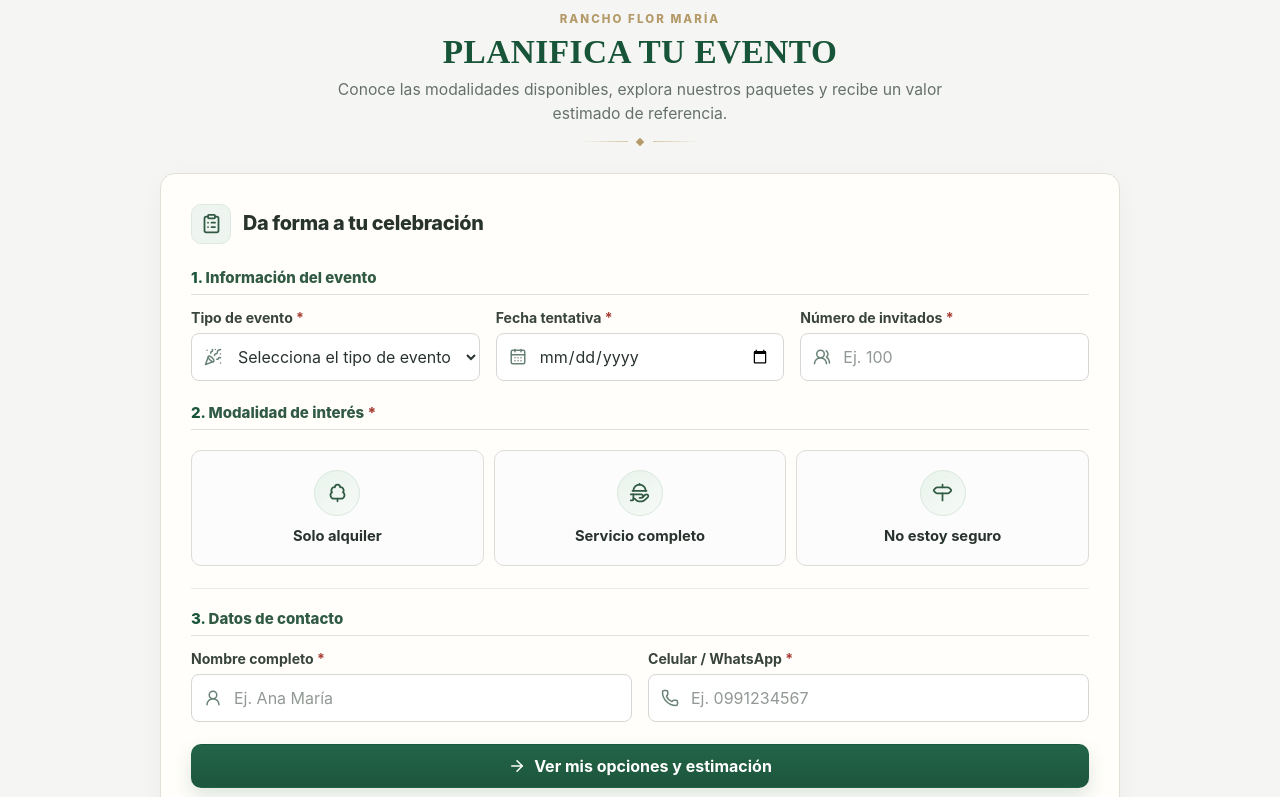
Test: PreCotizacionPage › presenta evento, modalidad y contacto en ese orden y bloquea fechas pasadas
Expected: the icon with class "lucide-tree-deciduous" is shown, [327,482,348,503]
Expected: the icon with class "lucide-hand-platter" is shown, [630,482,650,503]
Type "2026-07-23" into the date field labelled "Fecha tentativa *".
click(640, 357); type("2026-07-23")  # box [496,333,784,381]
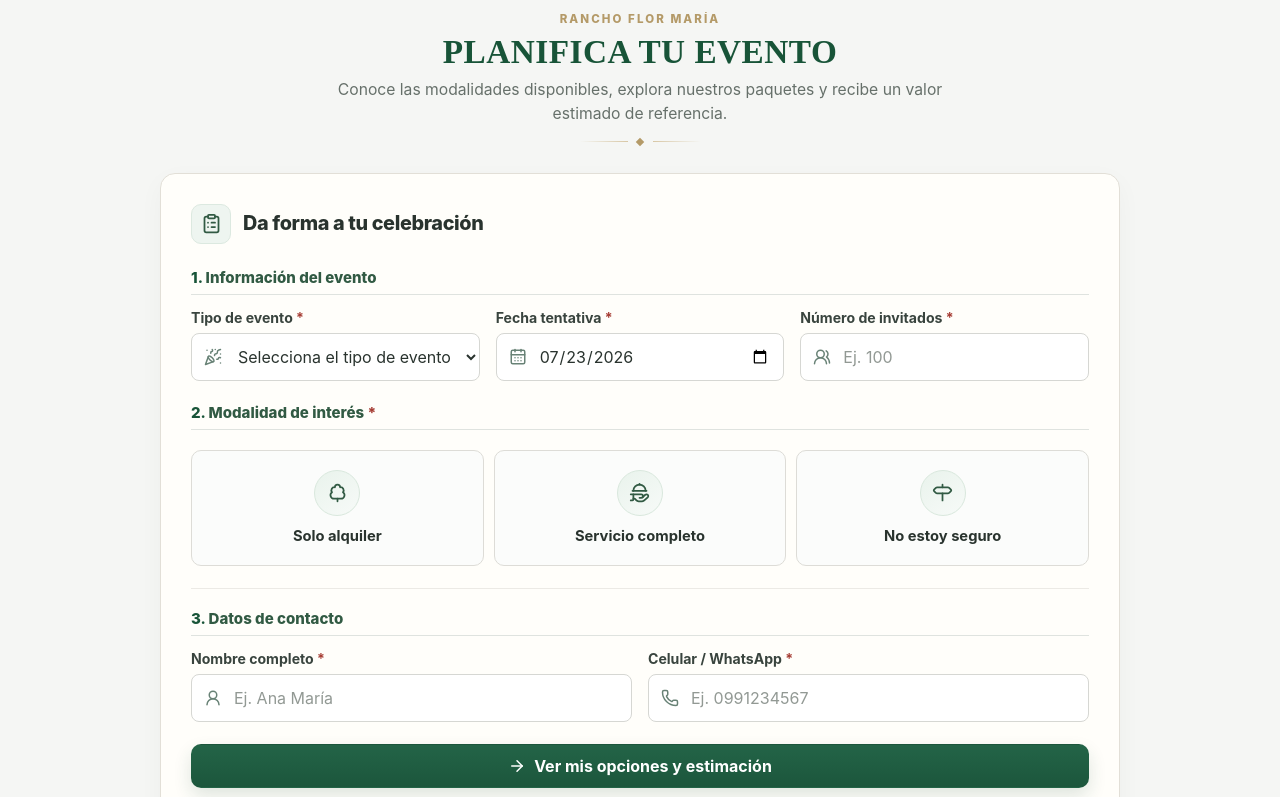
Click the button "Ver mis opciones y estimación".
click(640, 766)  # box [191,744,1089,788]
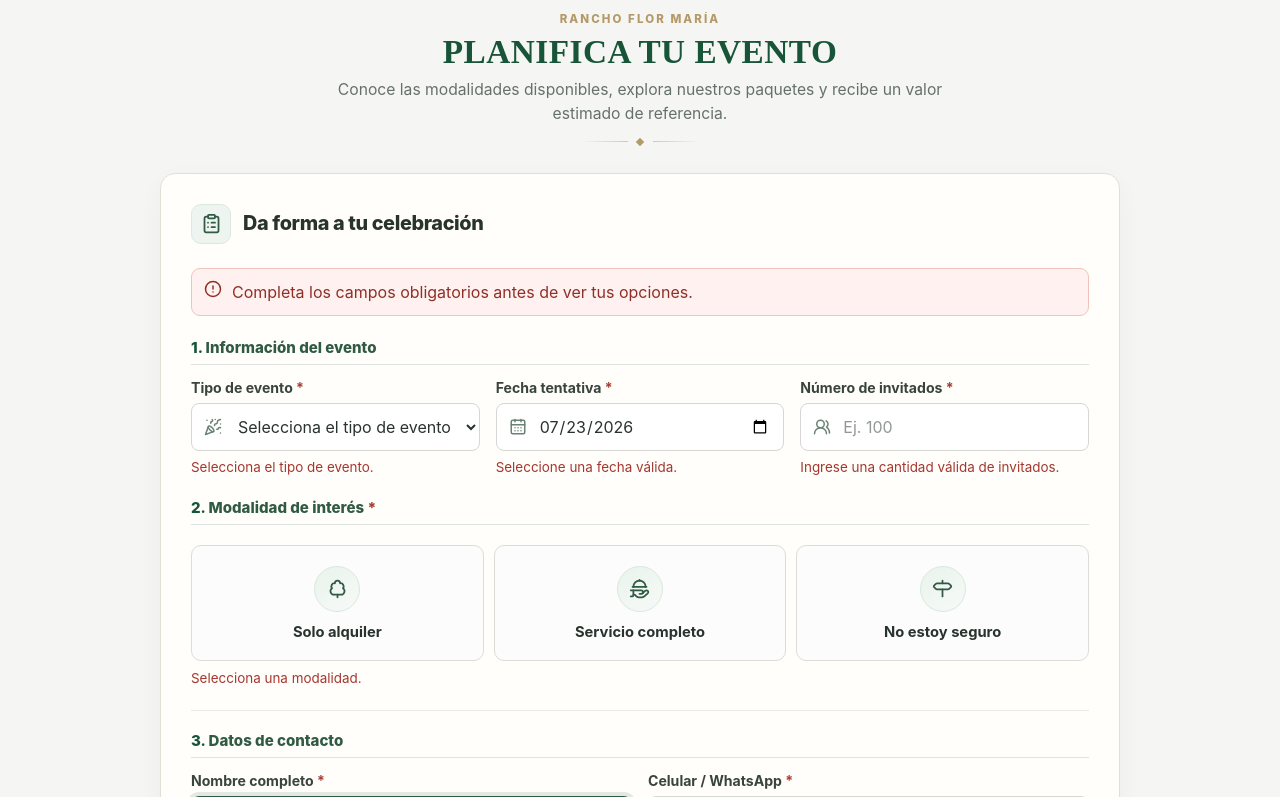
Expected: the text "Seleccione una fecha válida." is shown, [496,459,677,475]
Type "2026-07-24" into the date field labelled "Fecha tentativa * Seleccione una fecha válida.".
click(640, 427); type("2026-07-24")  # box [496,403,784,451]
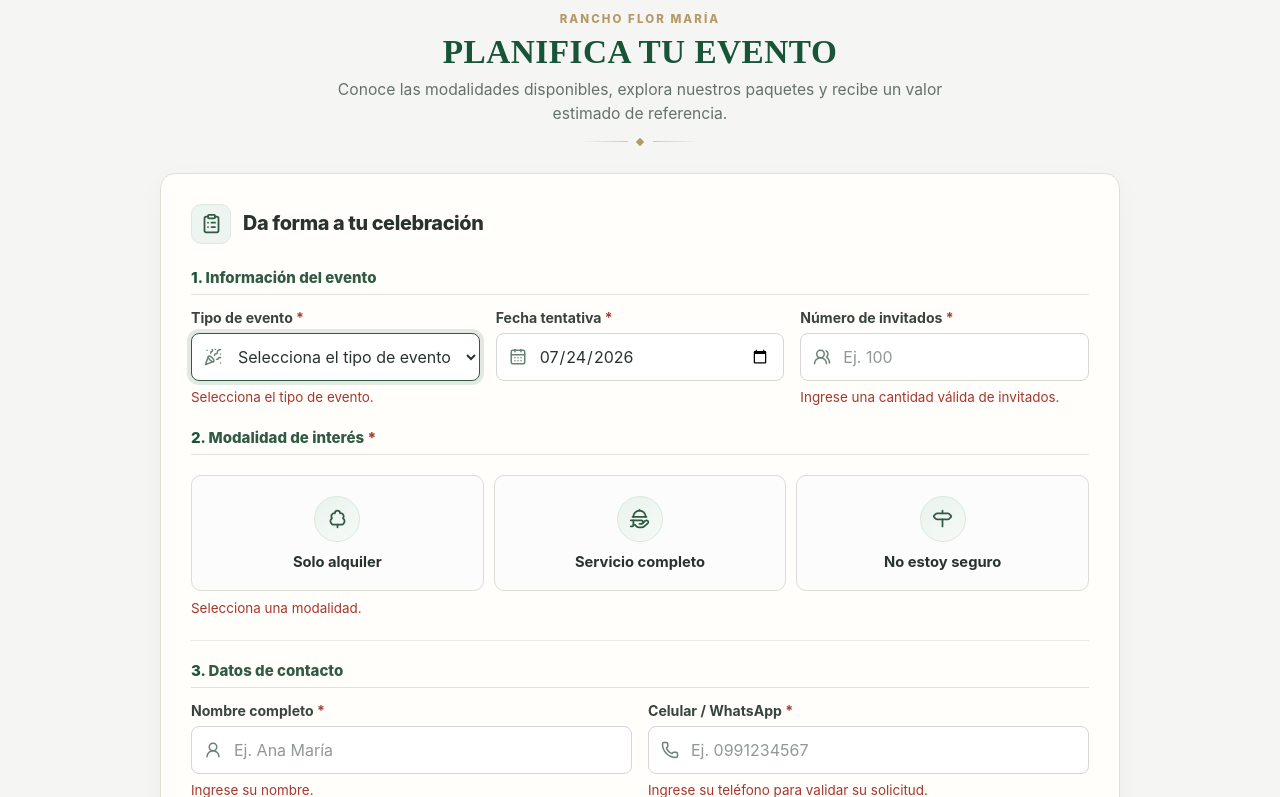
Expected: the text "Seleccione una fecha válida." is gone
